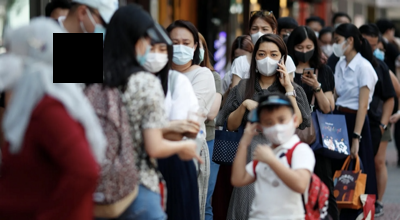with_mask: (83, 11, 109, 49), (262, 116, 294, 145), (143, 44, 169, 73), (256, 49, 283, 76), (171, 37, 195, 65), (250, 25, 274, 46), (294, 43, 316, 63), (334, 38, 350, 57), (320, 40, 335, 57), (374, 47, 386, 61)
